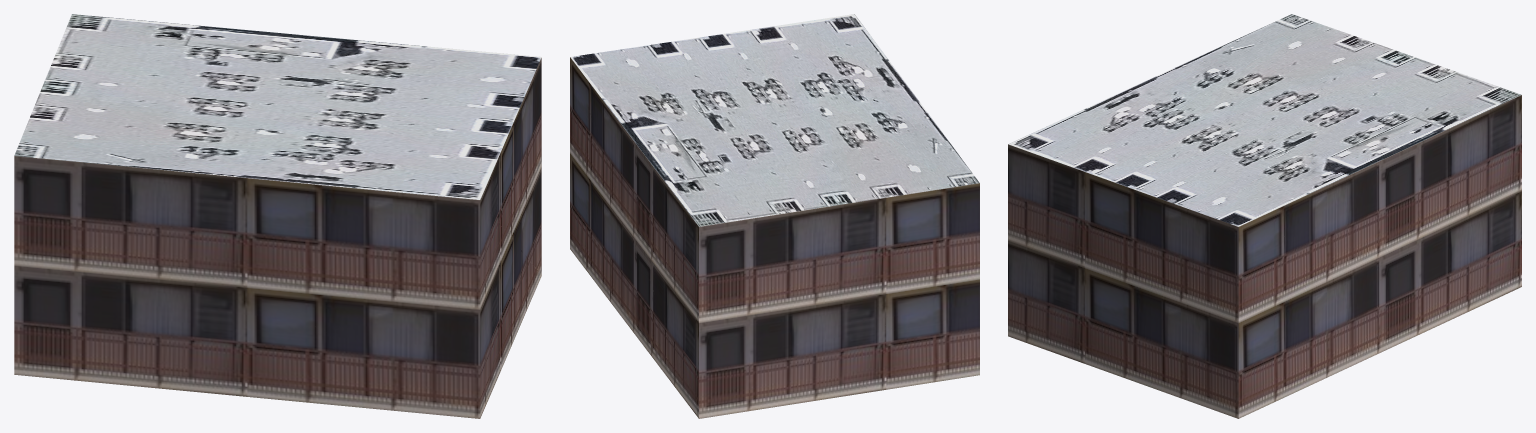
File: ResTex__3403.fbx
3 renders of one model, left to right at view 1: azimuth 30°, elevation 25°; view 2: azimuth 150°, elevation 25°; view 3: azimuth 270°, elevation 25°, orthographic. The views are drawn at different scales.
Parts seen in each view (by area): view 1: CityEngineMaterial_6_m, CityEngineMaterial_8_m; view 2: CityEngineMaterial_6_m, CityEngineMaterial_8_m; view 3: CityEngineMaterial_6_m, CityEngineMaterial_8_m.
Part boxes in pixels (x1,y1,x2,y2): CityEngineMaterial_6_m: [14, 58, 541, 418]; CityEngineMaterial_8_m: [14, 14, 541, 199]; CityEngineMaterial_6_m: [570, 57, 979, 418]; CityEngineMaterial_8_m: [570, 14, 979, 226]; CityEngineMaterial_6_m: [1008, 95, 1521, 418]; CityEngineMaterial_8_m: [1008, 14, 1521, 226].
Size of the model in its own units: 14.26 by 6 by 14.55.
Materials: 2 (2 with a texture image).
